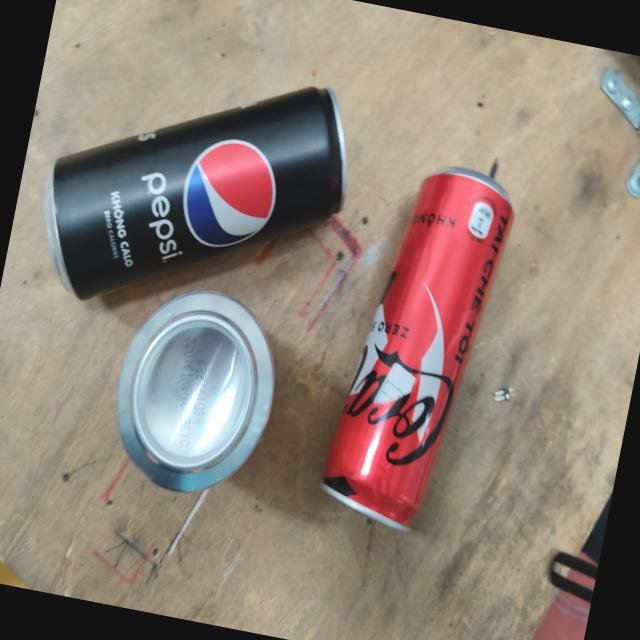kim_loai: (323, 168, 514, 530), (43, 86, 346, 299), (117, 291, 273, 492)
